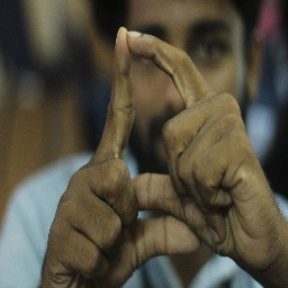D: (80, 23, 225, 209)
